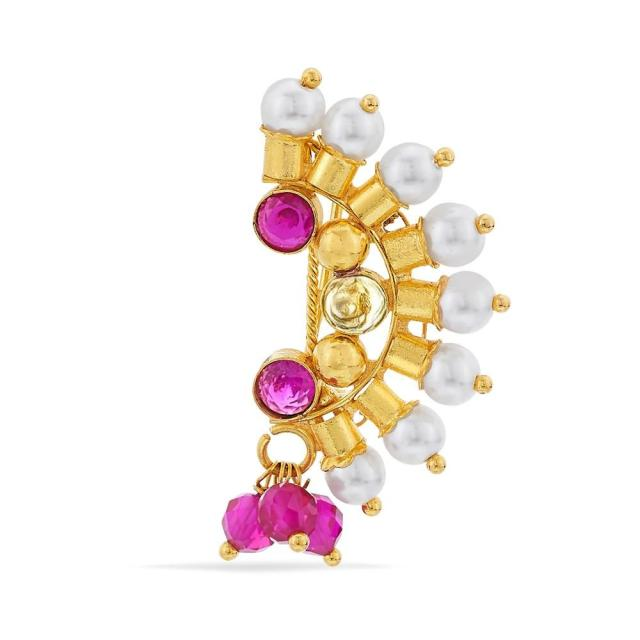missing gem: (323, 276, 388, 333)
